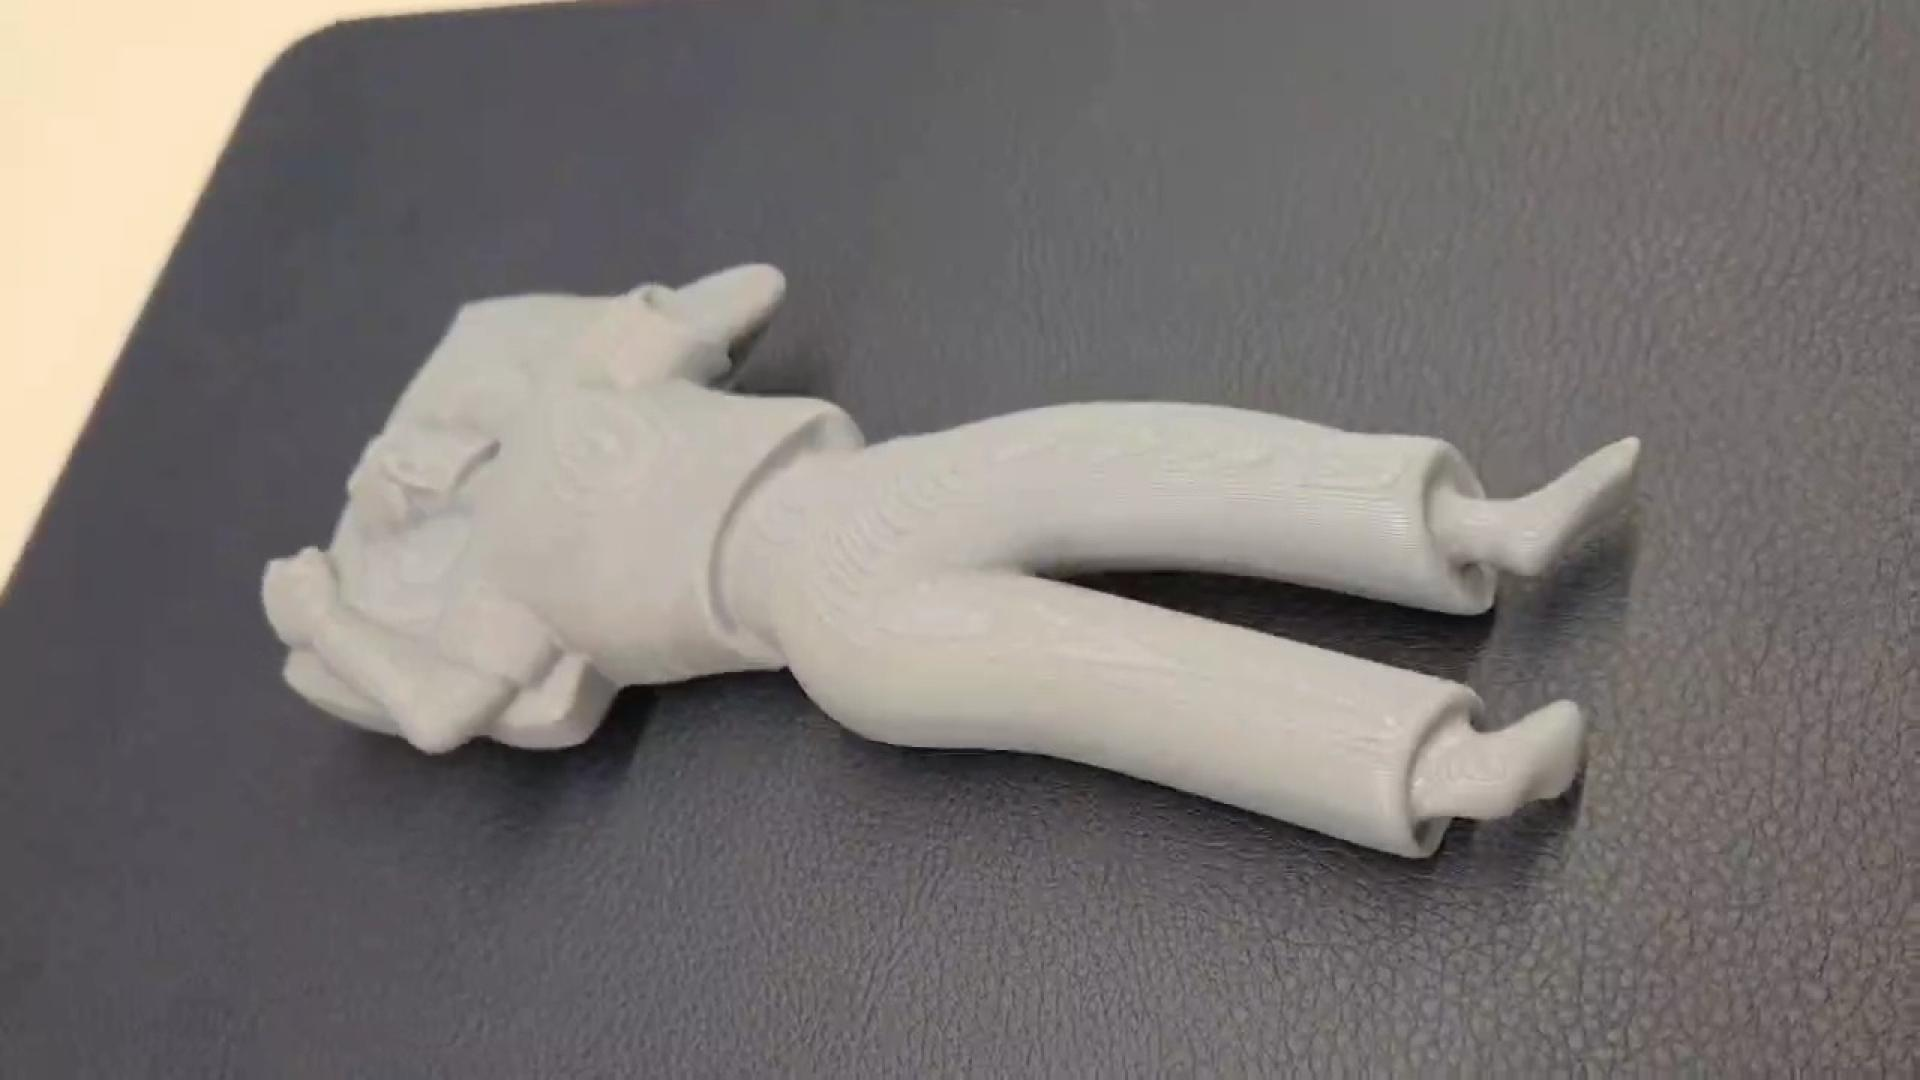Bad-style: (252, 262, 1648, 868)
